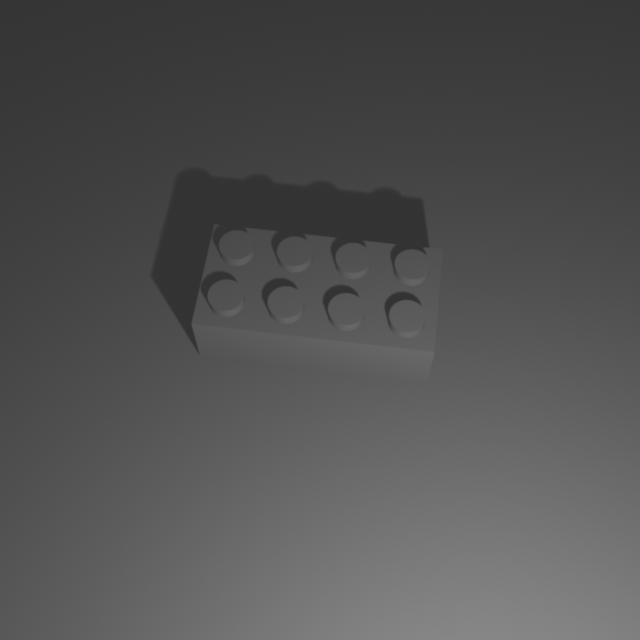lego_2x4: (190, 218, 444, 383)
